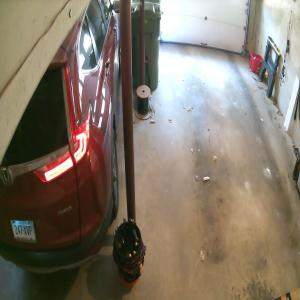garbage bin: (130, 0, 162, 92)
honda crv: (0, 0, 121, 275)
tool bucket: (112, 216, 147, 287)
